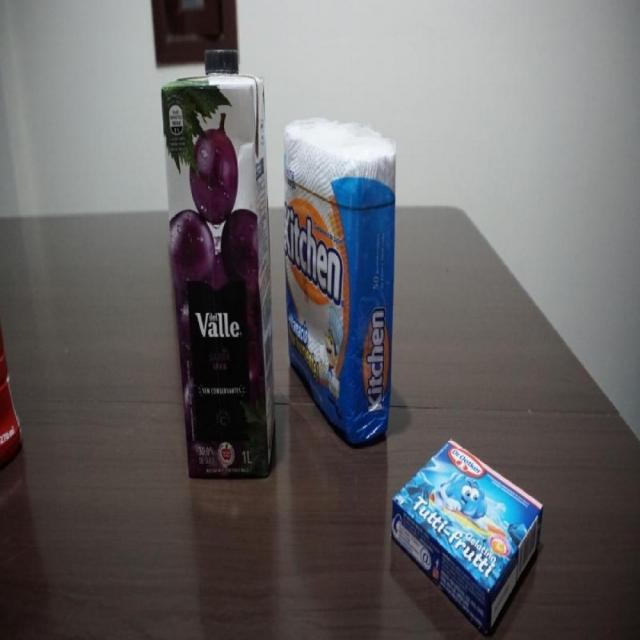ChocolateMilk: (1, 318, 24, 487)
Gelatine: (389, 438, 545, 636)
Napkin: (282, 114, 399, 451)
